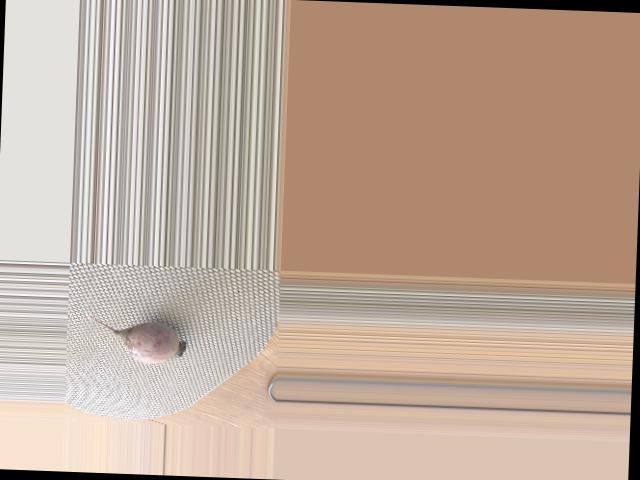beet: (84, 310, 188, 365)
